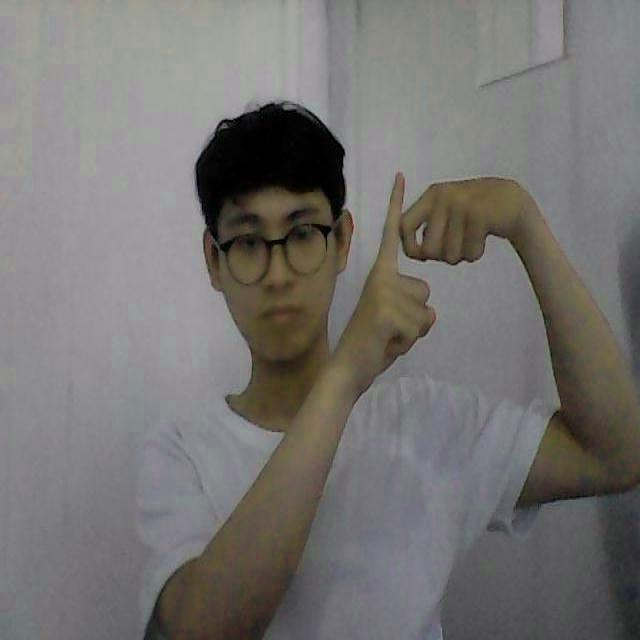K: (344, 152, 481, 380)
